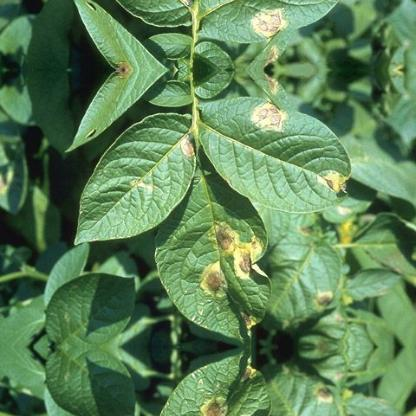Late-Blight: (70, 69, 380, 337), (70, 0, 380, 69), (70, 355, 380, 416)
